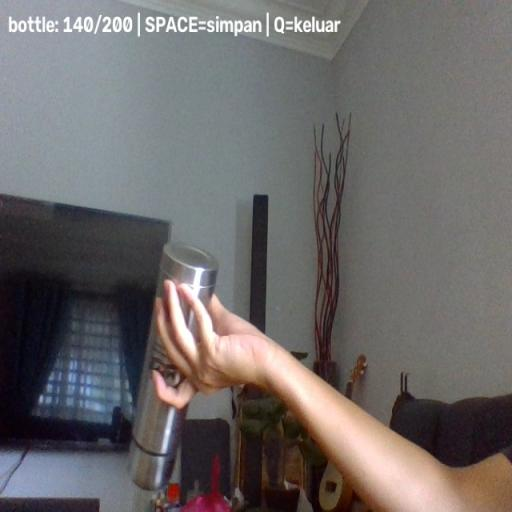Bottle: (127, 242, 219, 492)
